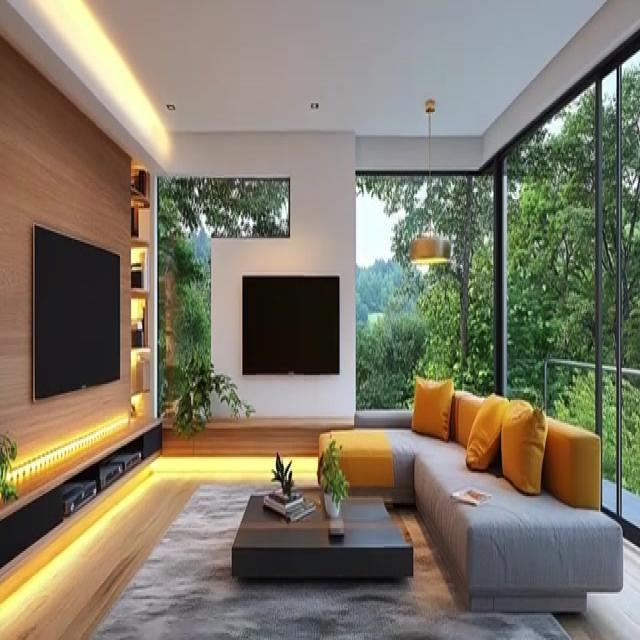obstacle: (317, 386, 623, 616), (231, 491, 413, 582)
